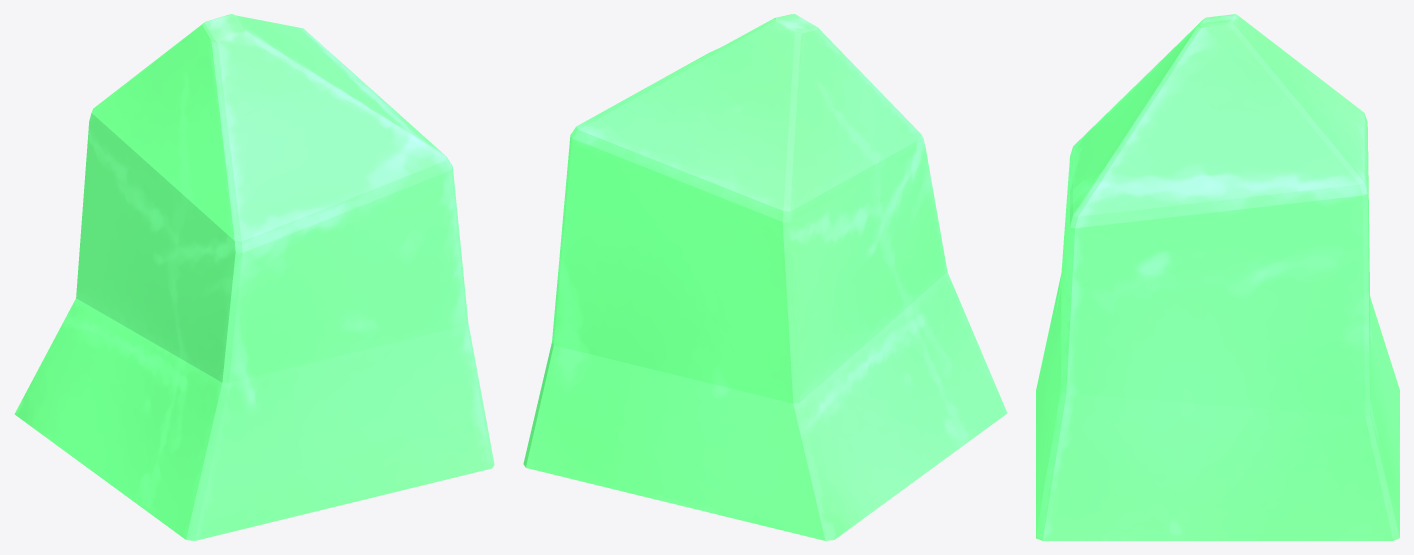
The model's file is Gem_6.fbx.
The picture shows the model from 3 angles, left to right: view 1: azimuth 30°, elevation 25°; view 2: azimuth 150°, elevation 25°; view 3: azimuth 270°, elevation 25°; orthographic projection. The views are drawn at different scales.
Parts seen in each view (by area): view 1: gem.006; view 2: gem.006; view 3: gem.006.
Boxes of the visible parts, x1,y1,x2,y2 form: gem.006: (14,14,494,540); gem.006: (523,14,1007,540); gem.006: (1036,14,1399,540).
Bounding box in the file's own units: 0.7539 × 0.9928 × 0.7539.
1 material, 1 textured.
